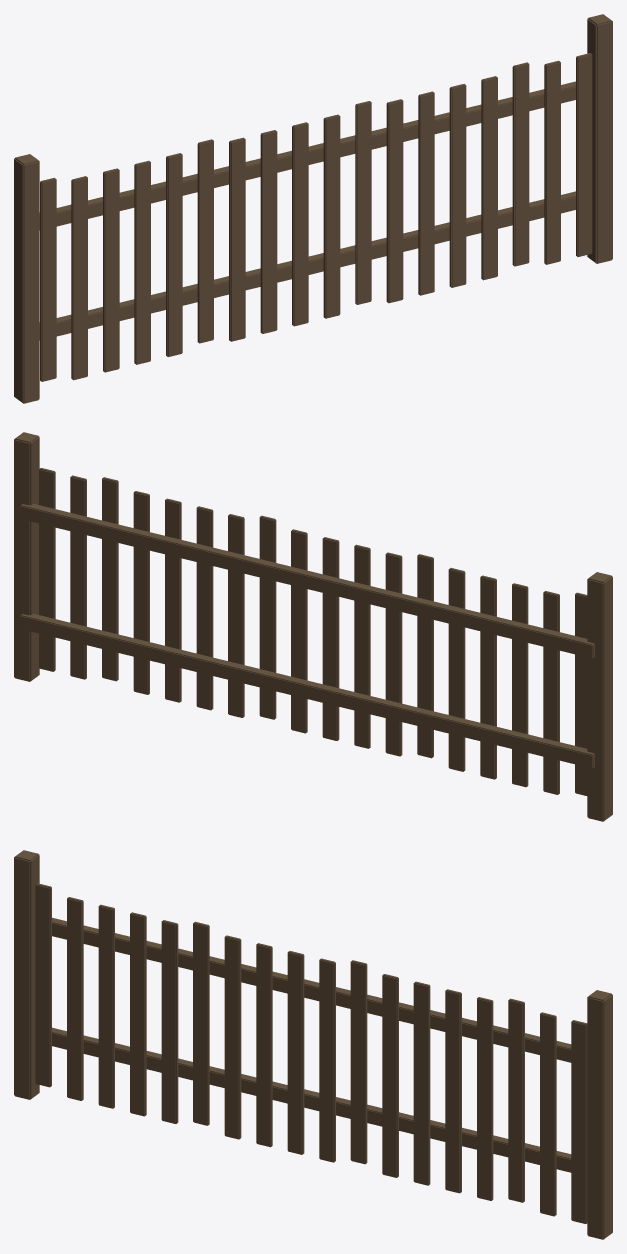
The model's file is fence_picket.glb.
The picture shows the model from 3 angles, top to bottom: view 1: azimuth 30°, elevation 25°; view 2: azimuth 150°, elevation 25°; view 3: azimuth 330°, elevation 25°; orthographic projection.
Visible parts, largest first — view 1: picket_fence; view 2: picket_fence; view 3: picket_fence.
Part boxes in pixels (x1=…): picket_fence: x1=14, y1=14, x2=612, y2=403; picket_fence: x1=14, y1=432, x2=612, y2=821; picket_fence: x1=14, y1=850, x2=612, y2=1239.
Size of what is drawn, in the model's own units: 3.09 by 1.2 by 0.11.
